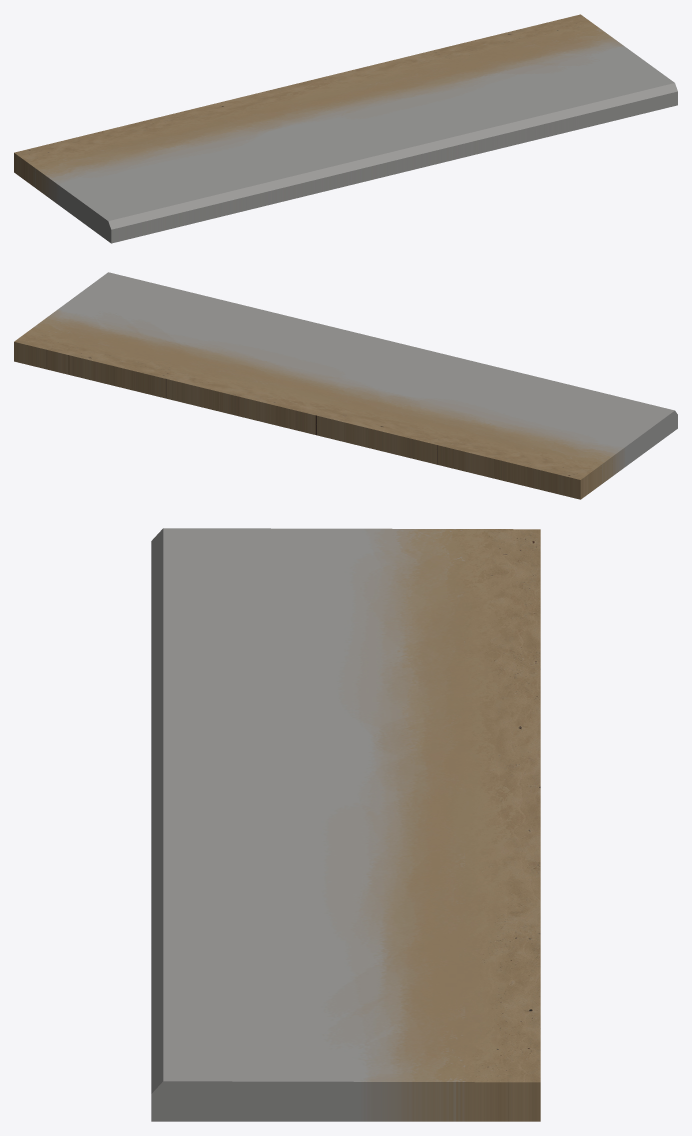
The model's file is fbx_playground_sidewalk.fbx.
The picture shows the model from 3 angles, top to bottom: view 1: azimuth 30°, elevation 25°; view 2: azimuth 150°, elevation 25°; view 3: azimuth 270°, elevation 25°; orthographic projection. The views are drawn at different scales.
Parts seen in each view (by area): view 1: fbx_playground_sidewalk; view 2: fbx_playground_sidewalk; view 3: fbx_playground_sidewalk.
Part boxes in pixels (bbox=[...]): fbx_playground_sidewalk: bbox=[14, 14, 677, 243]; fbx_playground_sidewalk: bbox=[14, 272, 677, 499]; fbx_playground_sidewalk: bbox=[151, 528, 540, 1121].
Size of the model in its own units: 10.9 by 0.3722 by 3.24.
1 material, 1 textured.
